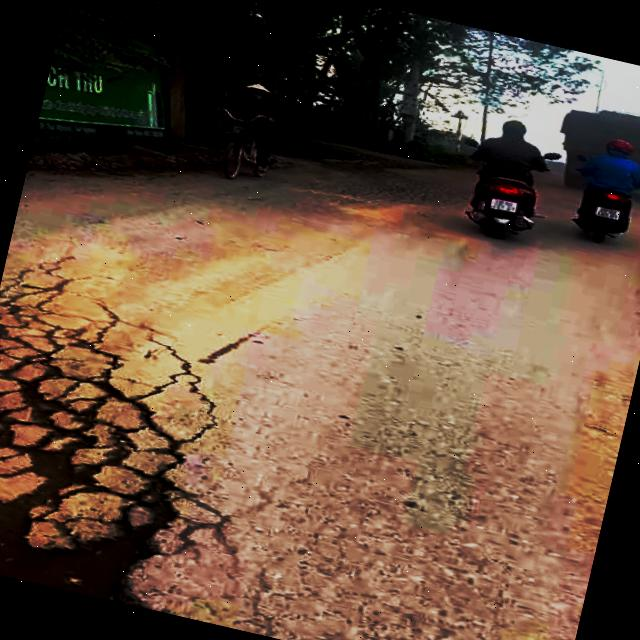pothole: (0, 308, 277, 625)
